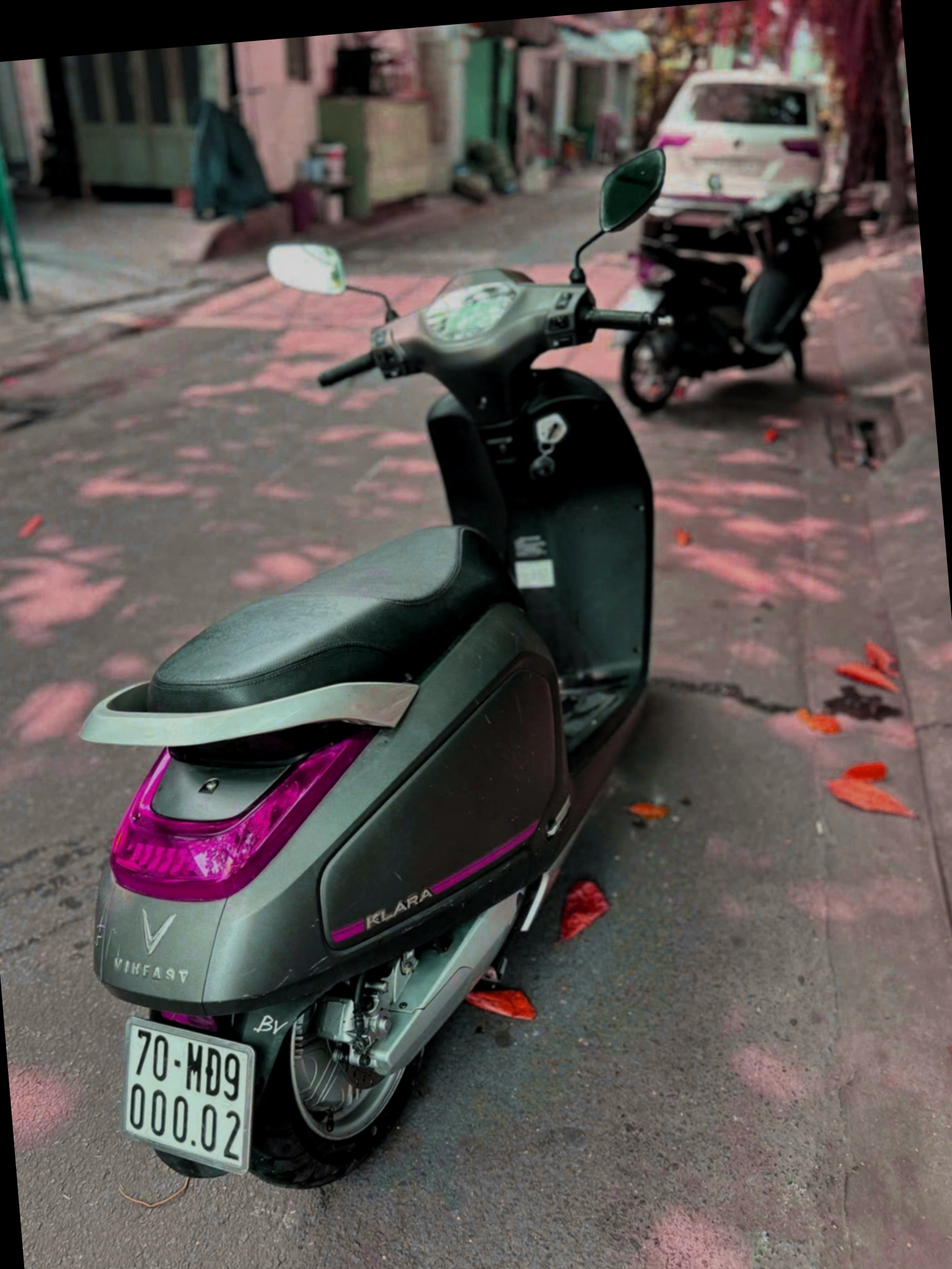Bien-so: (102, 955, 242, 1125)
